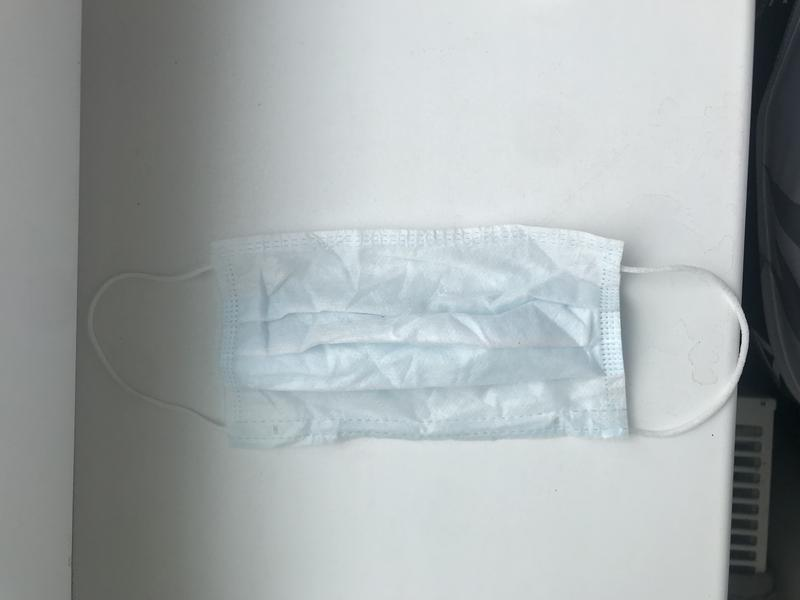medical_mask: (87, 226, 750, 450)
